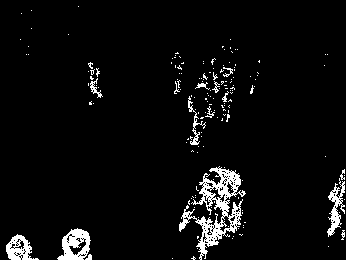person: (187, 75, 212, 147), (215, 67, 237, 122)
